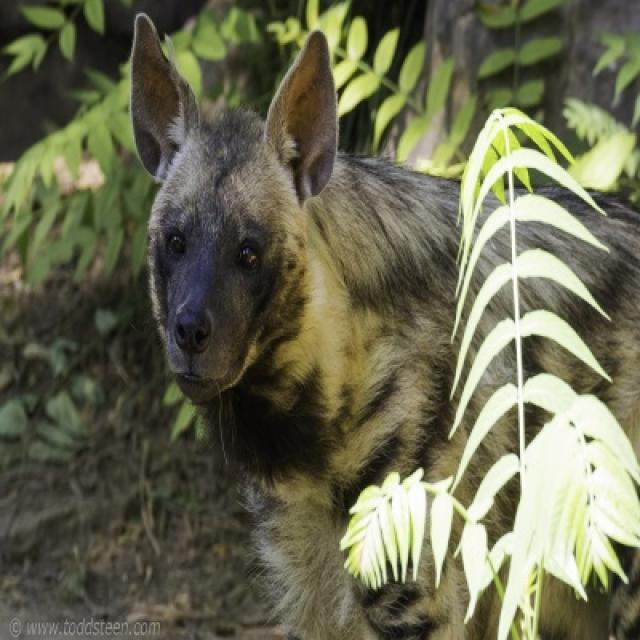hyena: (133, 14, 498, 638)
